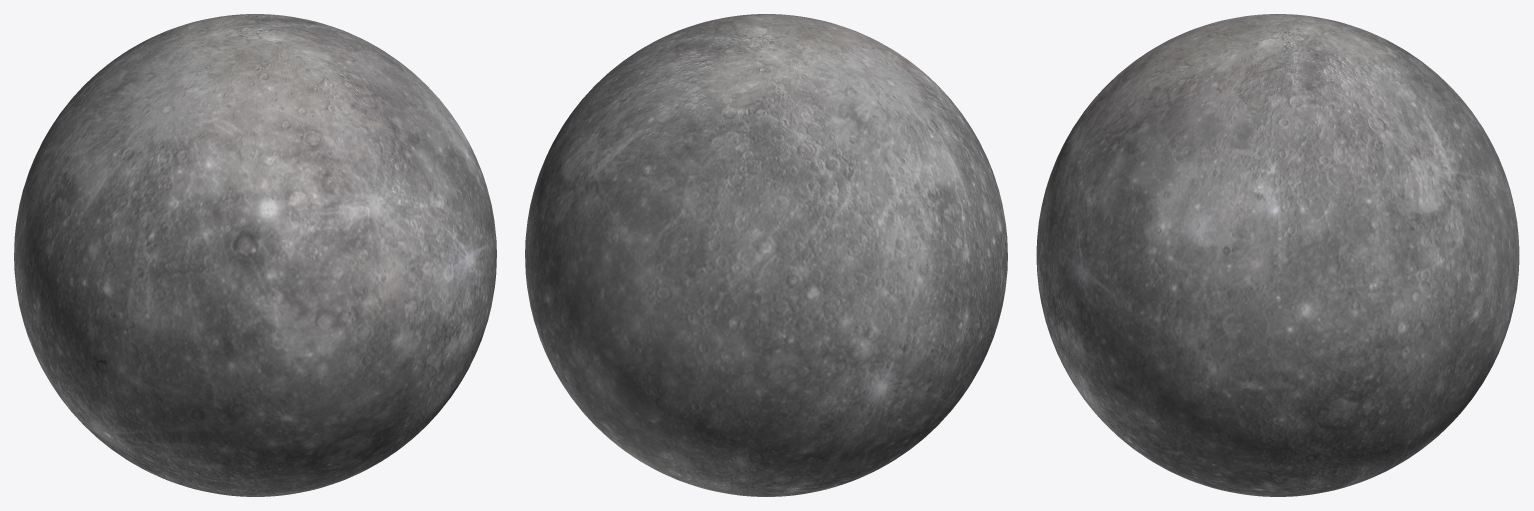
File: mercury.glb
3 views of the same model, side by side, from view 1: azimuth 30°, elevation 25°; view 2: azimuth 150°, elevation 25°; view 3: azimuth 270°, elevation 25° (orthographic).
Parts seen in each view (by area): view 1: Mercury; view 2: Mercury; view 3: Mercury.
Boxes of the visible parts, bbox=[...] form: Mercury: bbox=[14, 14, 496, 496]; Mercury: bbox=[525, 14, 1007, 496]; Mercury: bbox=[1036, 14, 1519, 496].
Bounding box in the file's own units: 2 × 2 × 2.
1 material, 1 textured.
